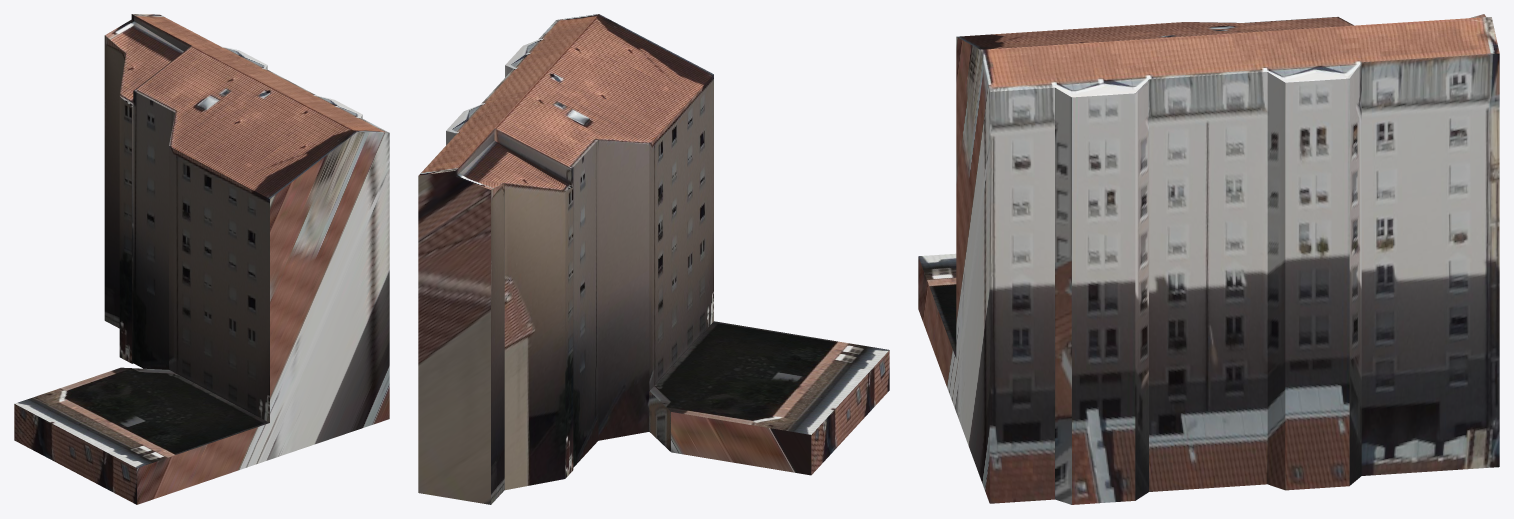
3 views of the same model, side by side, from view 1: azimuth 30°, elevation 25°; view 2: azimuth 150°, elevation 25°; view 3: azimuth 270°, elevation 25° (orthographic). The views are drawn at different scales.
Visible parts, largest first — view 1: Z_UP; view 2: Z_UP; view 3: Z_UP.
Part boxes in pixels (bbox=[...]): Z_UP: bbox=[14, 14, 389, 504]; Z_UP: bbox=[418, 14, 889, 504]; Z_UP: bbox=[918, 14, 1499, 504].
Size of the model in its own units: 26.6 by 24.85 by 30.54.
Materials: 2 (1 with a texture image).
